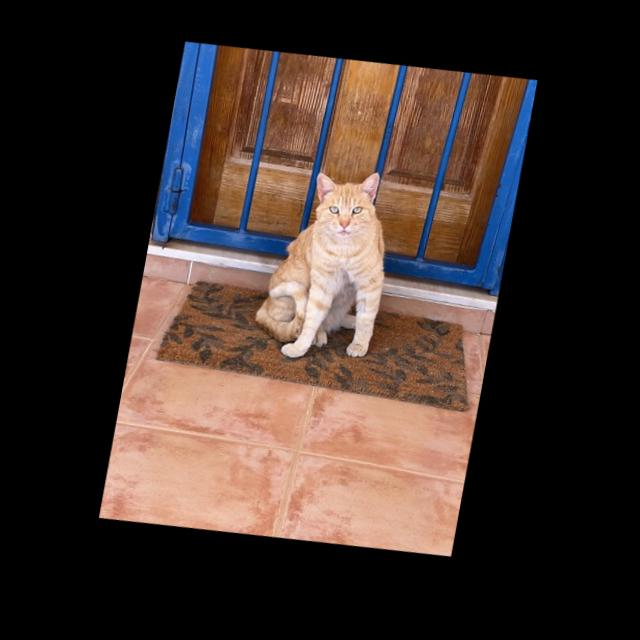animals: (247, 155, 404, 379)
